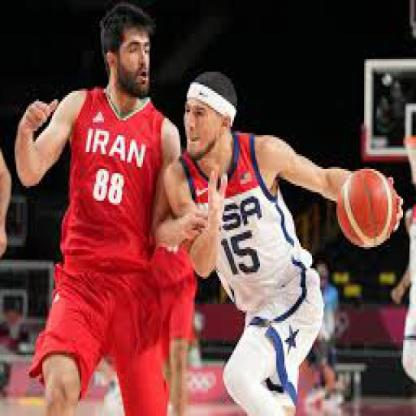basketball: (336, 167, 398, 250)
